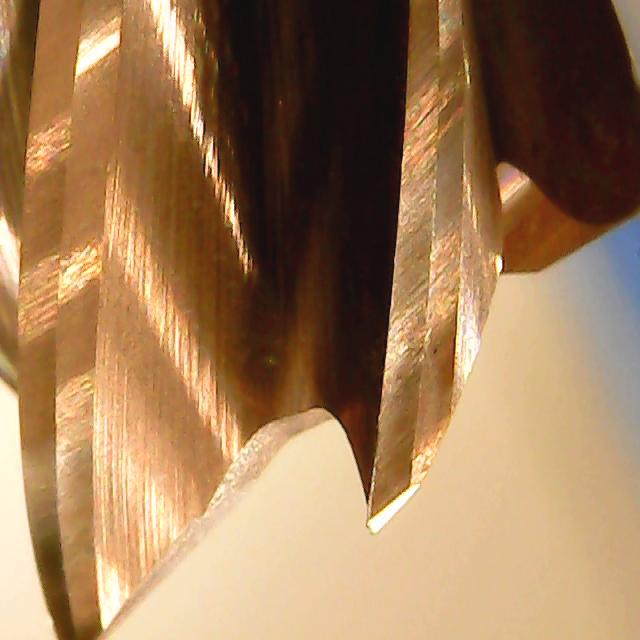Tool-wear-class-0: (351, 256, 479, 540)
